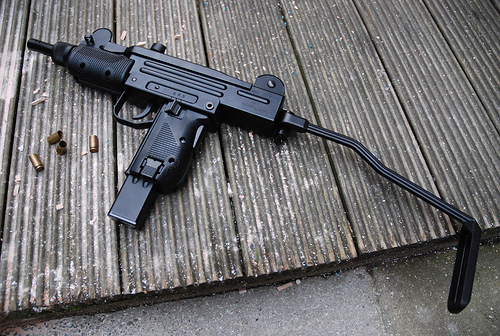rifle: (21, 20, 489, 316)
